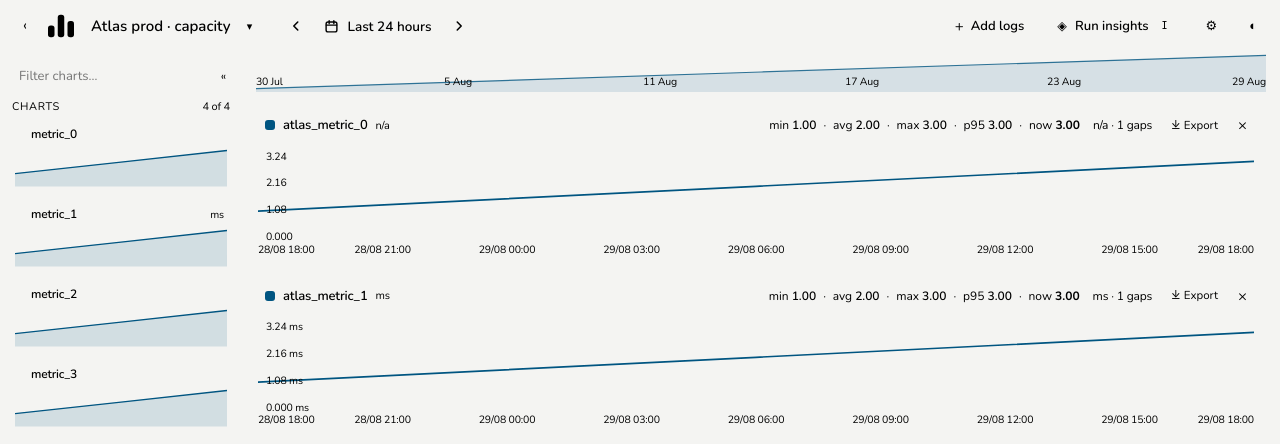
Test: WorkspacePageComponent › collapses the library to its rail
Click the button with class "chart-library-toggle": (223, 76) x1=214 y1=64 x2=233 y2=88
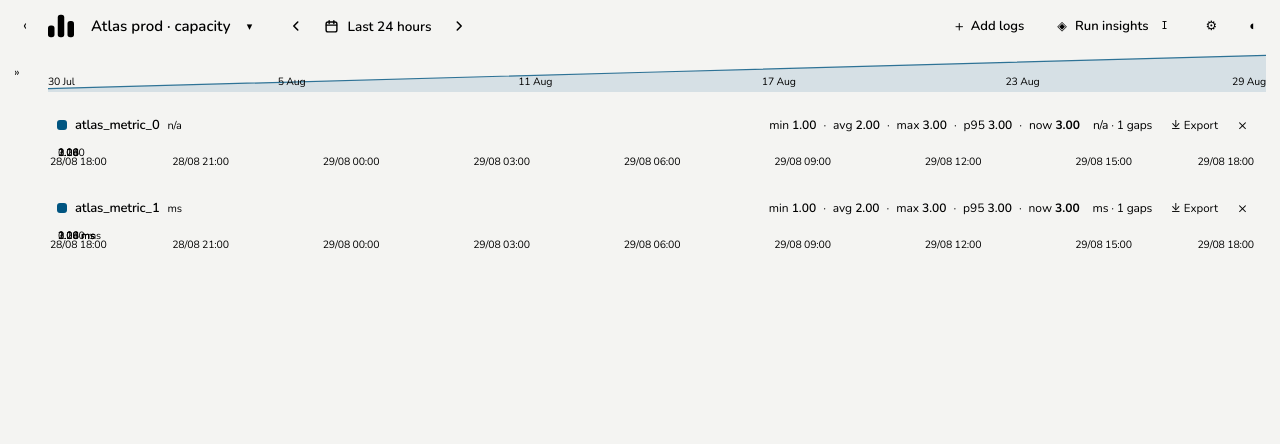
Check: the element with class "chart-library-rail" is shown, box x1=7 y1=60 x2=27 y2=84
